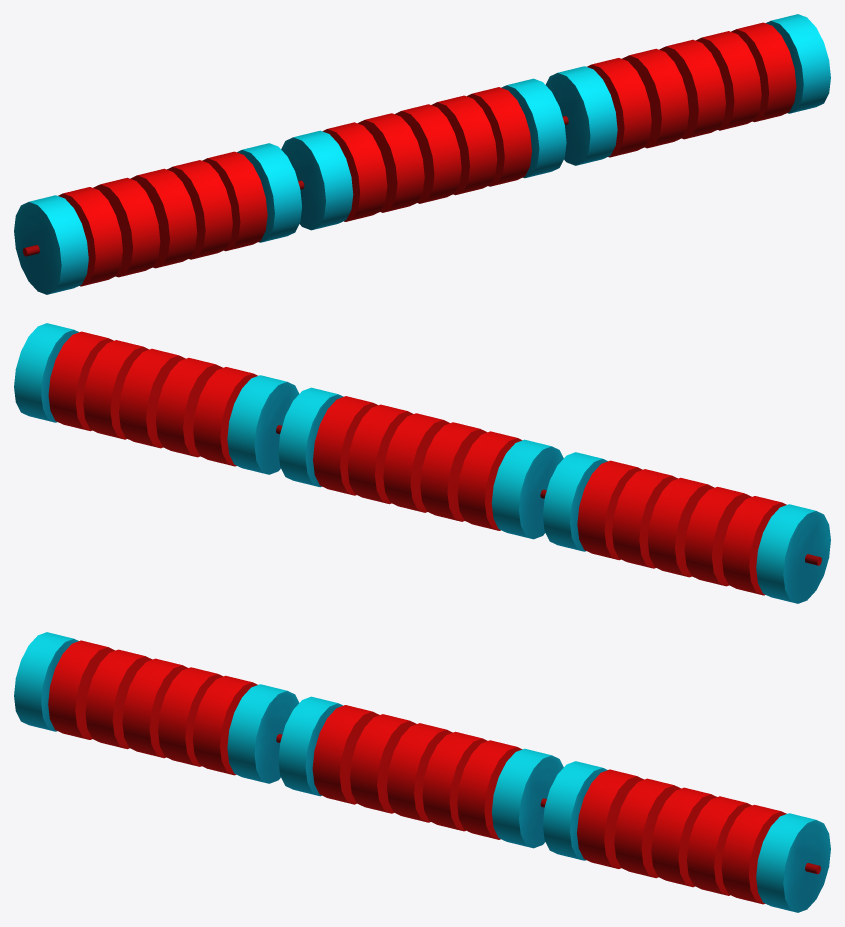
Rendered from paodao.FBX.
The picture shows the model from 3 angles, top to bottom: view 1: azimuth 30°, elevation 25°; view 2: azimuth 150°, elevation 25°; view 3: azimuth 330°, elevation 25°; orthographic projection.
Visible parts, largest first — view 1: Cylinder03; view 2: Cylinder03; view 3: Cylinder03.
Boxes of the visible parts, x1,y1,x2,y2 form: Cylinder03: [14, 14, 830, 294]; Cylinder03: [14, 323, 830, 603]; Cylinder03: [14, 632, 830, 912].
Size of the model in its own units: 171 by 17.79 by 17.79.
Materials: 1 (1 with a texture image).
